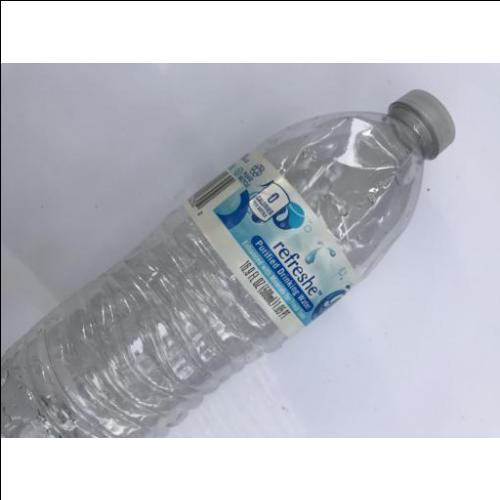plastic: (0, 91, 459, 437)
